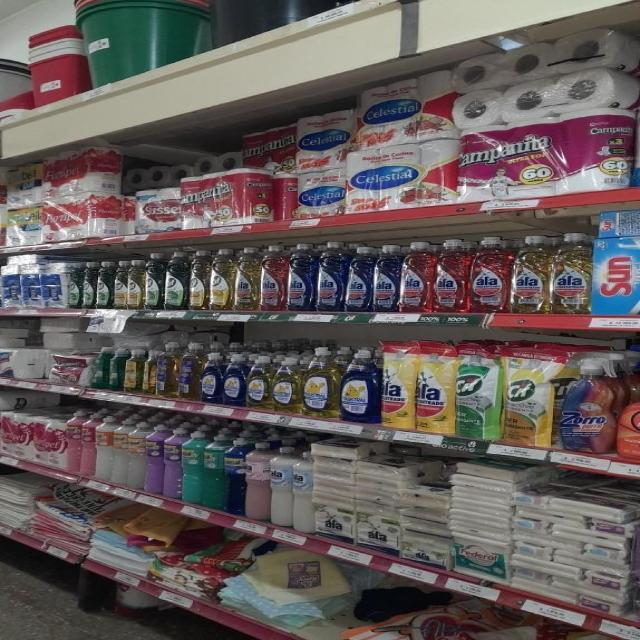ala_conc_amarillo: (549, 232, 591, 314), (510, 234, 548, 313), (234, 246, 259, 311)
ala_conc_azul: (316, 241, 344, 311), (286, 242, 314, 312), (372, 244, 400, 312), (345, 244, 372, 312)
ala_conc_rojo: (469, 236, 509, 313), (433, 239, 468, 313), (400, 240, 432, 313), (259, 244, 286, 311)
ala_crem_blanco: (292, 446, 312, 532), (270, 442, 290, 527)
ala_crem_rosado: (245, 438, 269, 521)
ala_sachet_amarillo: (416, 341, 454, 434), (381, 341, 415, 429)
cif_conc_bot_amarilla: (188, 248, 208, 310), (128, 258, 143, 309)
cif_conc_botella_verde: (164, 250, 186, 310), (144, 252, 162, 310), (96, 260, 111, 309), (82, 261, 95, 308)
cif_conc_sachet_amarillo: (502, 342, 554, 446)
cif_conc_sachet_verde: (455, 342, 499, 440)
magistral_con_amarillo: (302, 346, 339, 418), (272, 354, 300, 413), (246, 354, 270, 409)
magistral_con_azul: (341, 348, 378, 423), (223, 353, 245, 406), (201, 351, 222, 403)
zorro: (180, 343, 200, 401)
